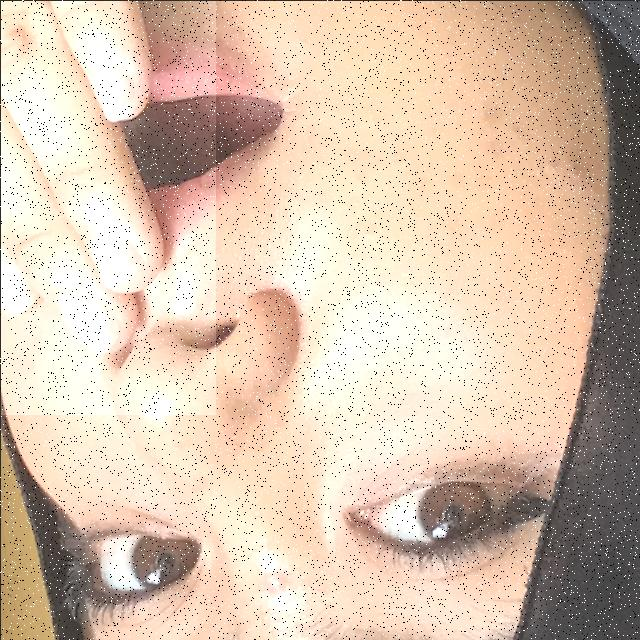ngantuk: (0, 0, 215, 414)
